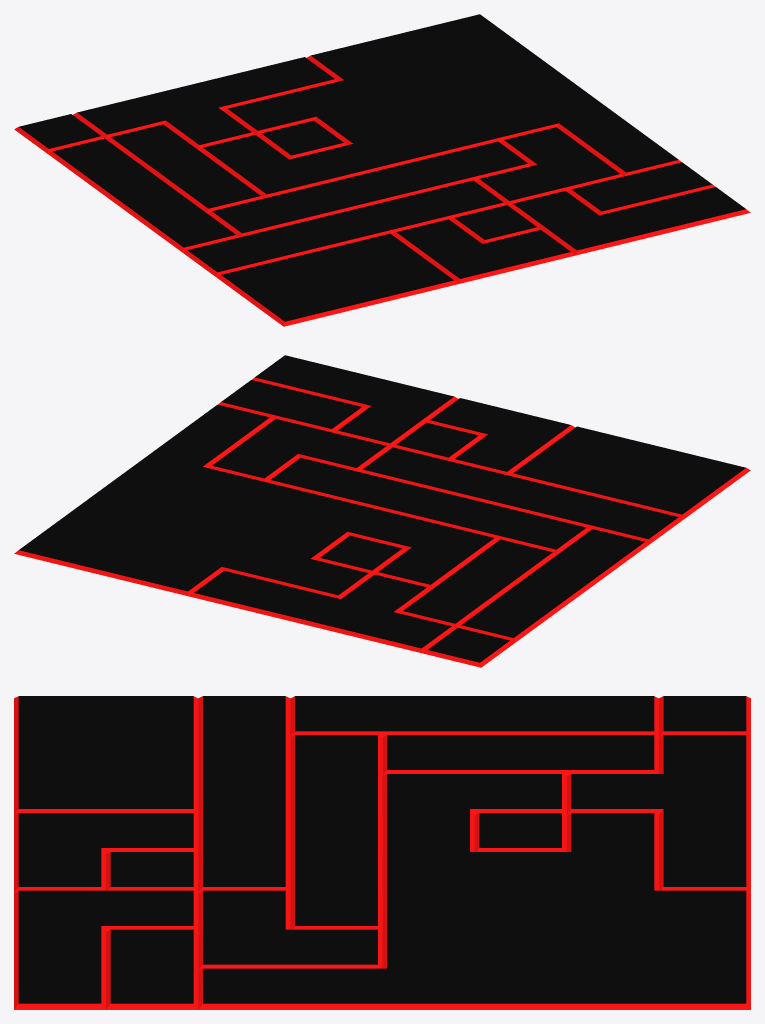
Rendered from 38b8adb7-d50b-4be4-95df-84748584fbdf.glb.
The picture shows the model from 3 angles, top to bottom: view 1: azimuth 30°, elevation 25°; view 2: azimuth 150°, elevation 25°; view 3: azimuth 270°, elevation 25°; orthographic projection. The views are drawn at different scales.
Parts seen in each view (by area): view 1: Cyberpunk Square Tile.004; view 2: Cyberpunk Square Tile.004; view 3: Cyberpunk Square Tile.004.
Part boxes in pixels (x1,y1,x2,y2): Cyberpunk Square Tile.004: [14, 14, 750, 326]; Cyberpunk Square Tile.004: [14, 355, 750, 667]; Cyberpunk Square Tile.004: [14, 696, 750, 1009].
Bounding box in the file's own units: 0.7964 × 0.005 × 0.7964.
Materials: 1 (1 with a texture image).
